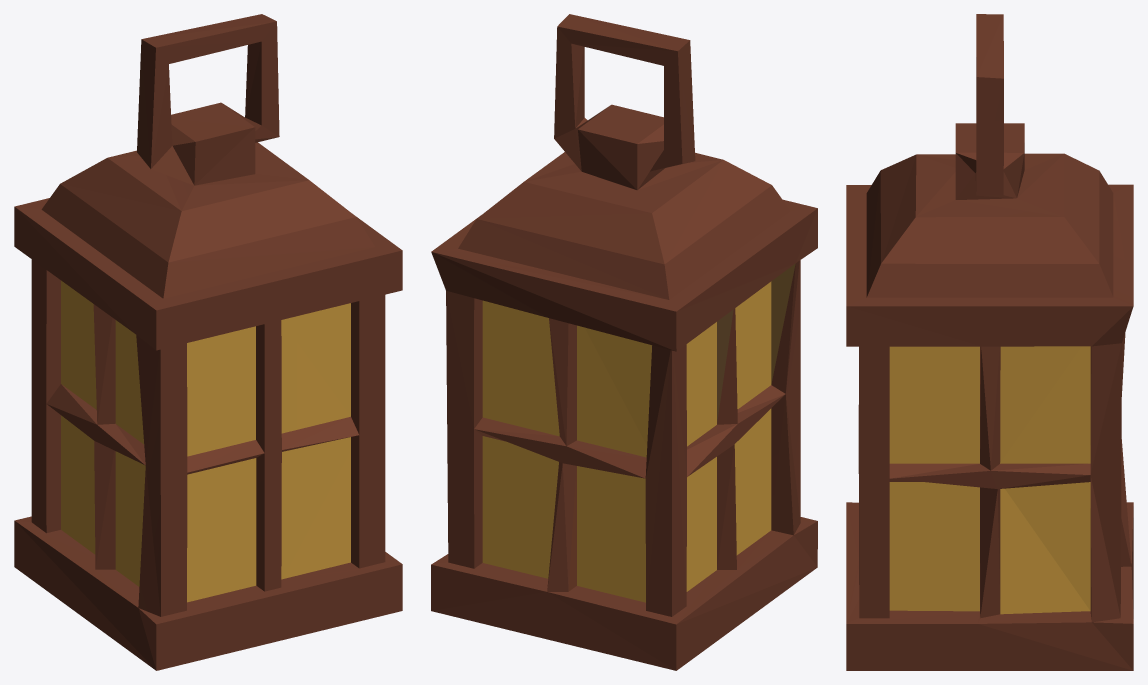
The model's file is mdvl_interiors_lantern_01.fbx.
The picture shows the model from 3 angles, left to right: view 1: azimuth 30°, elevation 25°; view 2: azimuth 150°, elevation 25°; view 3: azimuth 270°, elevation 25°; orthographic projection.
Visible parts, largest first — view 1: mdvl_interiors_lantern_01; view 2: mdvl_interiors_lantern_01; view 3: mdvl_interiors_lantern_01.
Boxes of the visible parts, bbox=[...] form: mdvl_interiors_lantern_01: bbox=[14, 14, 402, 670]; mdvl_interiors_lantern_01: bbox=[431, 14, 817, 670]; mdvl_interiors_lantern_01: bbox=[846, 14, 1133, 670].
Bounding box in the file's own units: 13.28 × 28.86 × 13.25.
